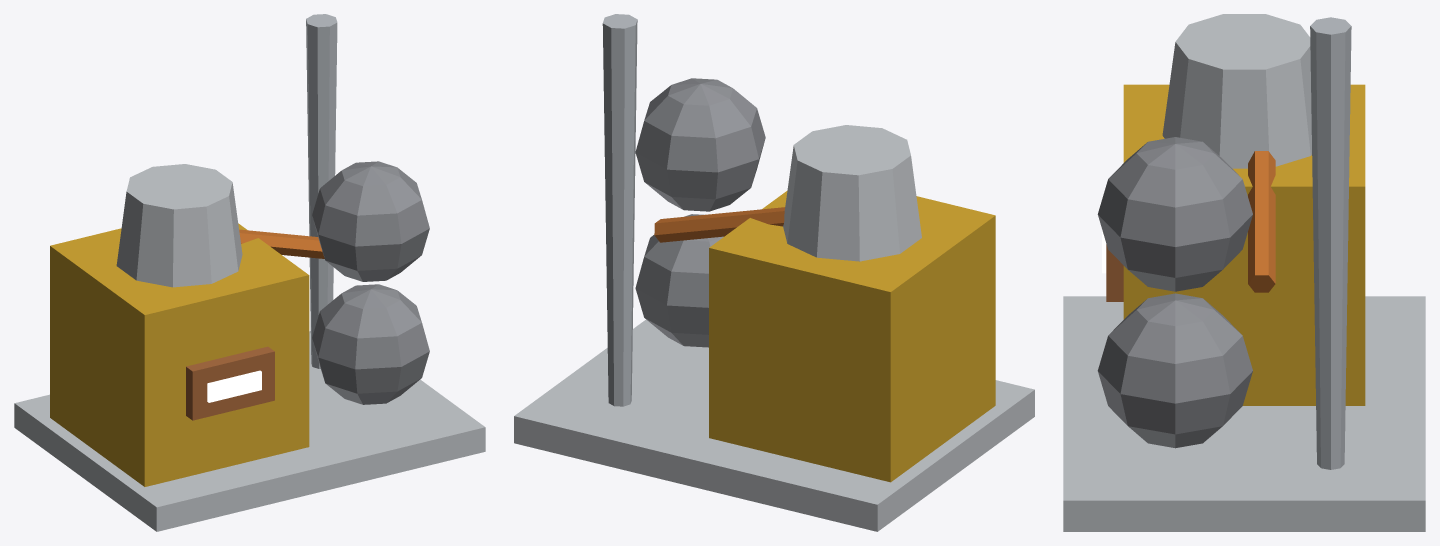
File: isru-moxie-rodwell.glb
3 renders of one model, left to right at view 1: azimuth 30°, elevation 25°; view 2: azimuth 150°, elevation 25°; view 3: azimuth 270°, elevation 25°, orthographic. The views are drawn at different scales.
Visible parts, largest first — view 1: IsruMoxieRodwell_FoilGold, IsruMoxieRodwell_Aluminum, IsruMoxieRodwell_Titanium, IsruMoxieRodwell_Steel, IsruMoxieRodwell_Copper, IsruMoxieRodwell_Foam, IsruMoxieRodwell_Lamp; view 2: IsruMoxieRodwell_FoilGold, IsruMoxieRodwell_Aluminum, IsruMoxieRodwell_Titanium, IsruMoxieRodwell_Steel, IsruMoxieRodwell_Foam; view 3: IsruMoxieRodwell_Aluminum, IsruMoxieRodwell_Titanium, IsruMoxieRodwell_FoilGold, IsruMoxieRodwell_Steel, IsruMoxieRodwell_Foam, IsruMoxieRodwell_Copper.
Boxes of the visible parts, <box> form: IsruMoxieRodwell_FoilGold: <box>50,223,309,486</box>; IsruMoxieRodwell_Aluminum: <box>14,164,485,531</box>; IsruMoxieRodwell_Titanium: <box>312,161,429,404</box>; IsruMoxieRodwell_Steel: <box>306,14,337,368</box>; IsruMoxieRodwell_Copper: <box>186,346,274,420</box>; IsruMoxieRodwell_Foam: <box>239,229,324,258</box>; IsruMoxieRodwell_Lamp: <box>207,370,261,402</box>; IsruMoxieRodwell_FoilGold: <box>709,190,995,482</box>; IsruMoxieRodwell_Aluminum: <box>514,125,1034,531</box>; IsruMoxieRodwell_Titanium: <box>635,78,765,347</box>; IsruMoxieRodwell_Steel: <box>602,14,637,406</box>; IsruMoxieRodwell_Foam: <box>654,207,785,242</box>; IsruMoxieRodwell_Aluminum: <box>1063,14,1425,531</box>; IsruMoxieRodwell_Titanium: <box>1097,137,1252,448</box>; IsruMoxieRodwell_FoilGold: <box>1123,84,1365,405</box>; IsruMoxieRodwell_Steel: <box>1310,17,1351,469</box>; IsruMoxieRodwell_Foam: <box>1248,151,1275,292</box>; IsruMoxieRodwell_Copper: <box>1106,244,1123,301</box>.
Bounding box in the file's own units: 0.56 × 0.6 × 0.42.
